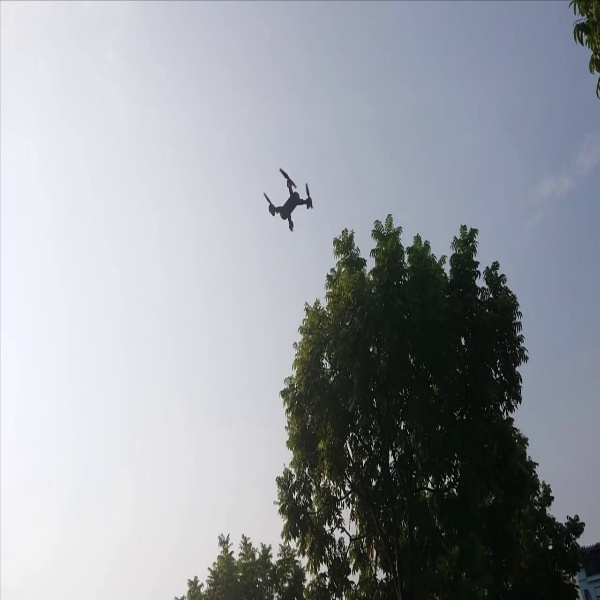drone: (259, 155, 319, 237)
